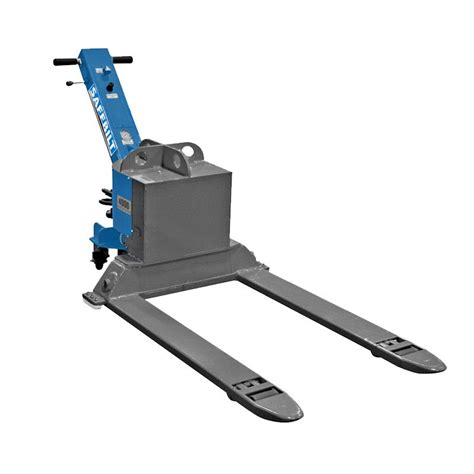Pallet Jack: (51, 47, 451, 426)
